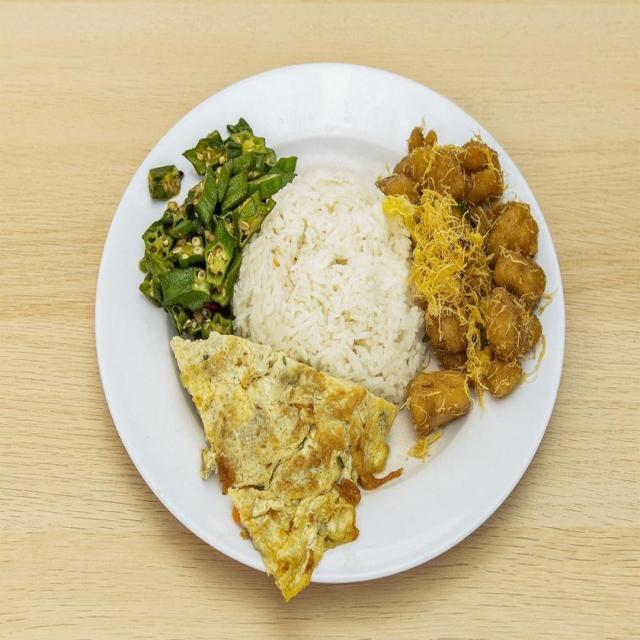Chicken: (375, 134, 537, 435)
Egg: (171, 339, 397, 600)
Plate: (96, 64, 564, 577)
Rice: (237, 180, 422, 400)
Vegetables: (140, 118, 300, 330)
